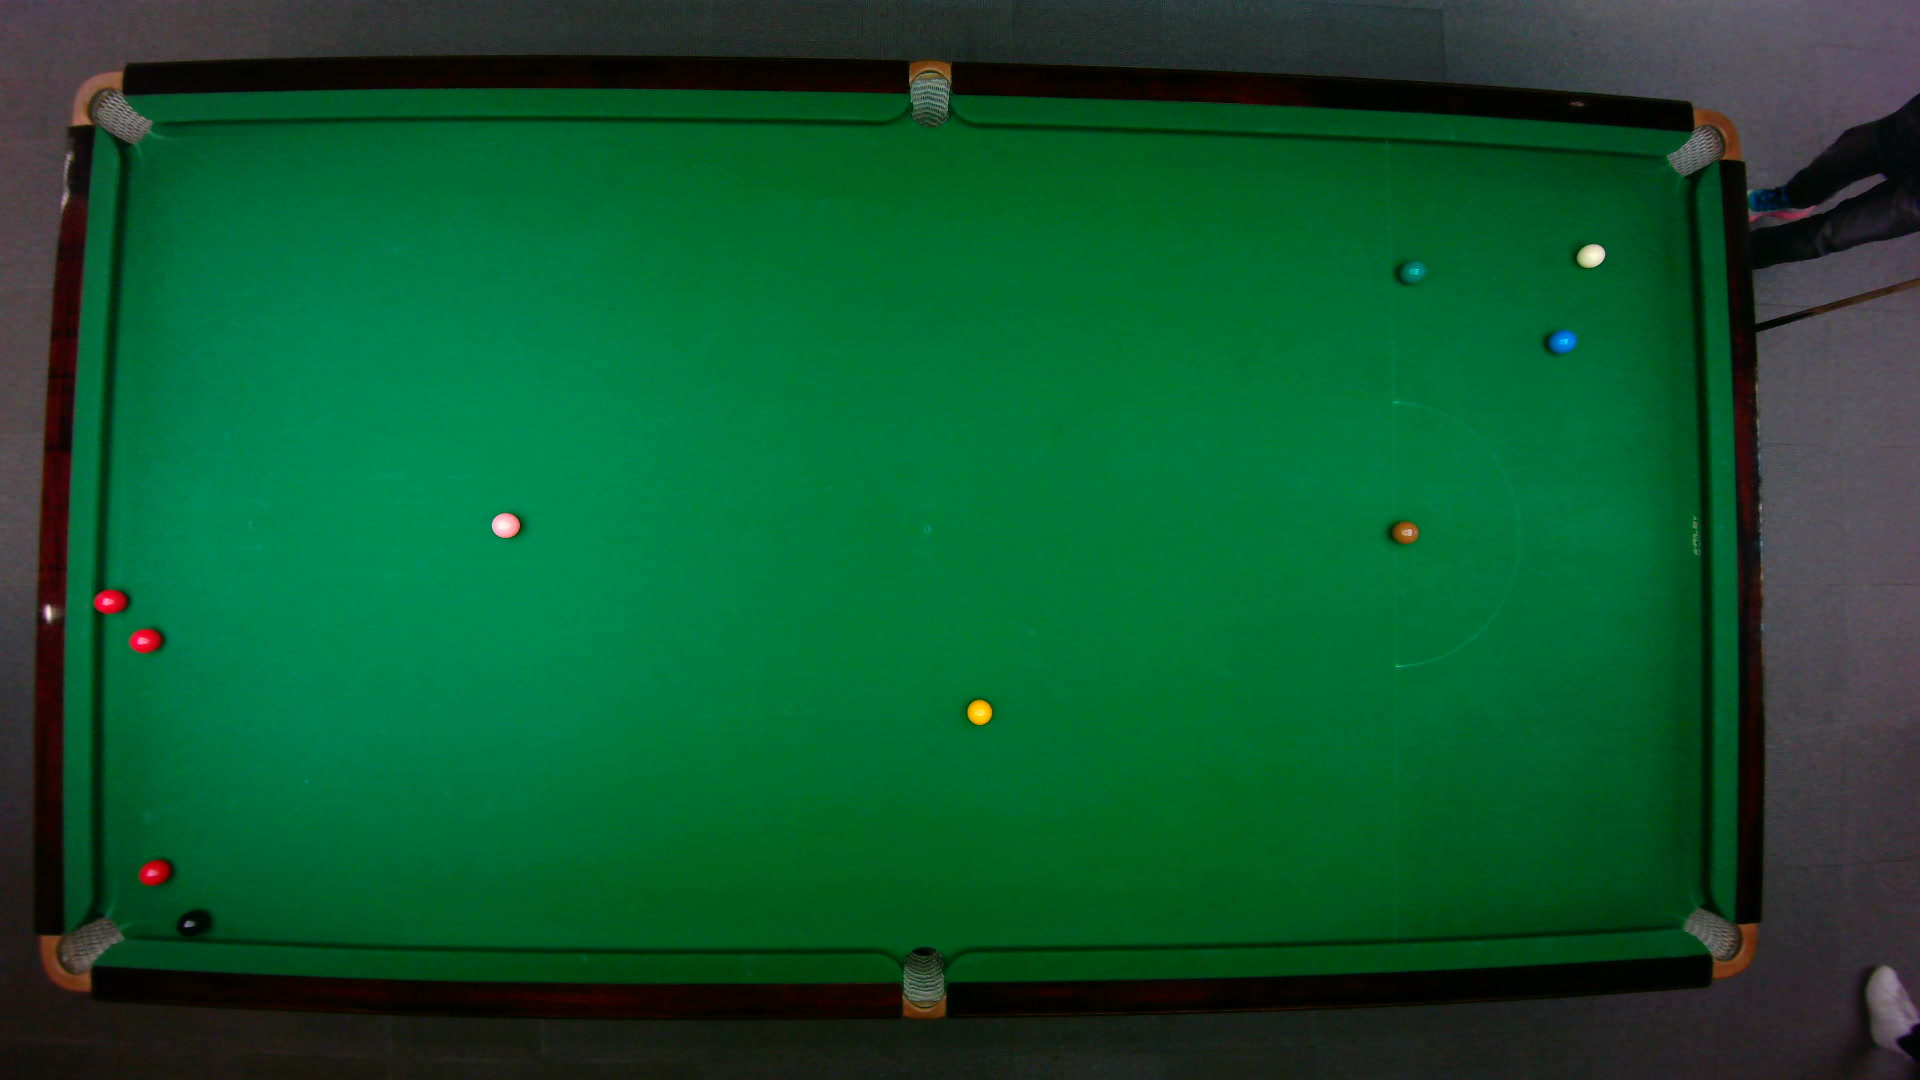bag: (37, 913, 125, 992), (69, 69, 153, 145), (1679, 905, 1756, 978), (1663, 107, 1741, 177), (901, 944, 944, 1021), (909, 57, 949, 128)
black: (174, 907, 207, 938)
blue: (1545, 327, 1578, 353)
brown: (1389, 520, 1418, 543)
green: (1396, 258, 1427, 284)
pink: (489, 509, 521, 539)
red: (136, 857, 171, 886), (91, 587, 128, 615), (127, 626, 164, 653)
white: (1575, 241, 1606, 268)
yellow: (964, 696, 992, 727)
zone: (1390, 398, 1520, 669)
